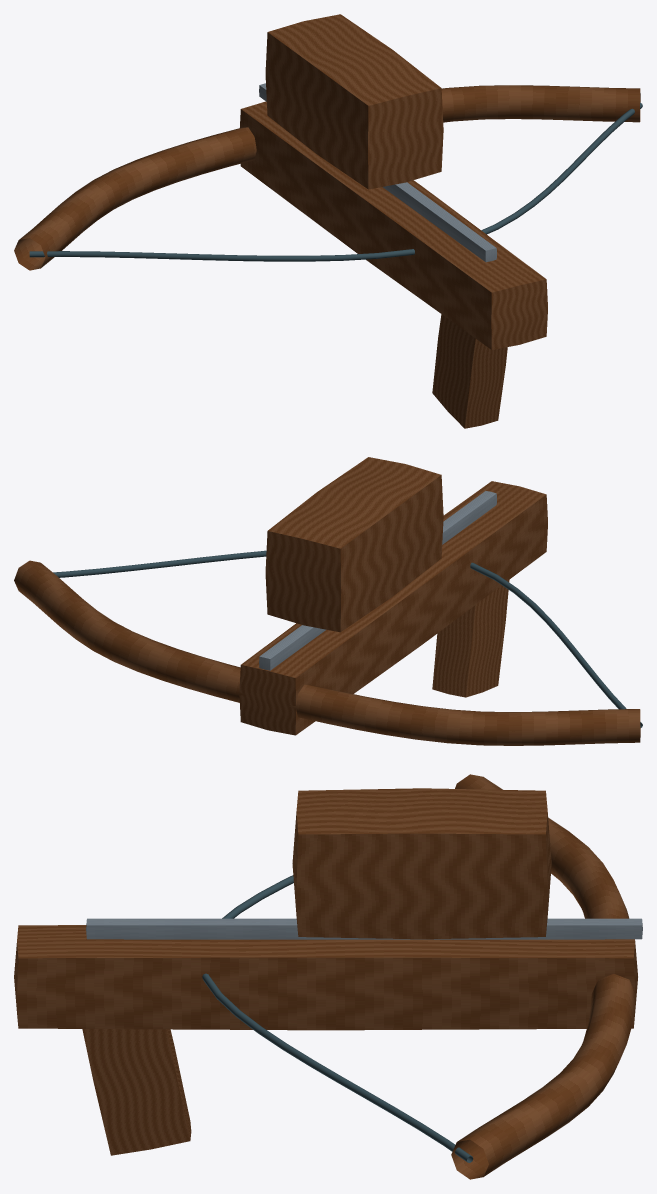
Rendered from repeating-crossbow.lod1.glb.
The picture shows the model from 3 angles, top to bottom: view 1: azimuth 30°, elevation 25°; view 2: azimuth 150°, elevation 25°; view 3: azimuth 270°, elevation 25°; orthographic projection. The views are drawn at different scales.
Visible parts, largest first — view 1: wood.0, wood.5, wood.2, wood.1, cloth.3, steel.4; view 2: wood.0, wood.5, wood.2, wood.1, cloth.3, steel.4; view 3: wood.0, wood.5, wood.2, wood.1, steel.4, cloth.3.
Boxes of the visible parts, left/top/right/bottom form: wood.0: left=240, top=101, right=547, bottom=349; wood.5: left=265, top=14, right=443, bottom=189; wood.2: left=14, top=85, right=640, bottom=270; wood.1: left=432, top=314, right=507, bottom=428; cloth.3: left=29, top=102, right=642, bottom=261; steel.4: left=259, top=83, right=496, bottom=262; wood.0: left=239, top=481, right=547, bottom=735; wood.5: left=265, top=457, right=443, bottom=632; wood.2: left=14, top=560, right=640, bottom=745; wood.1: left=432, top=580, right=509, bottom=697; cloth.3: left=53, top=550, right=642, bottom=727; steel.4: left=259, top=491, right=496, bottom=670; wood.0: left=14, top=925, right=637, bottom=1030; wood.5: left=292, top=788, right=551, bottom=939; wood.2: left=451, top=774, right=635, bottom=1179; wood.1: left=82, top=1029, right=191, bottom=1155; steel.4: left=86, top=918, right=642, bottom=939; cloth.3: left=202, top=875, right=473, bottom=1162.
Size of the model in its own units: 0.9237 by 0.3899 by 0.655.
Materials: 3 (3 with a texture image).
